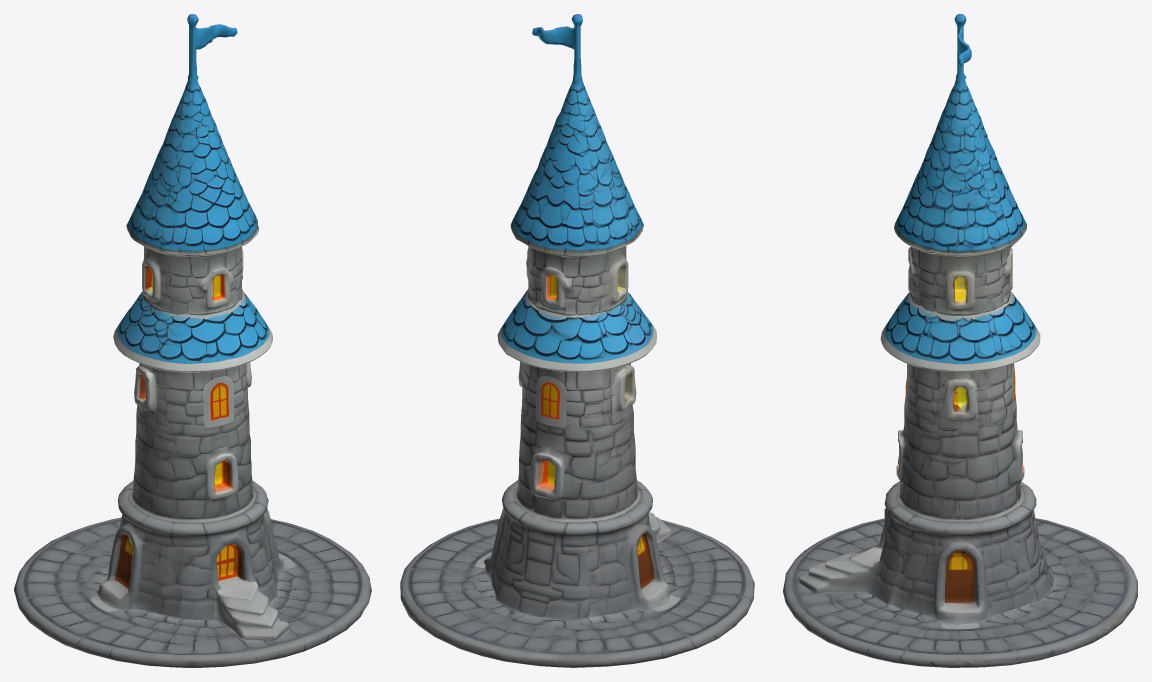
Rendered from chartmaker_tower.glb.
3 renders of one model, left to right at view 1: azimuth 30°, elevation 25°; view 2: azimuth 150°, elevation 25°; view 3: azimuth 270°, elevation 25°, orthographic.
Size of the model in its own units: 1.05 by 1.91 by 1.05.
Materials: 1 (1 with a texture image).
